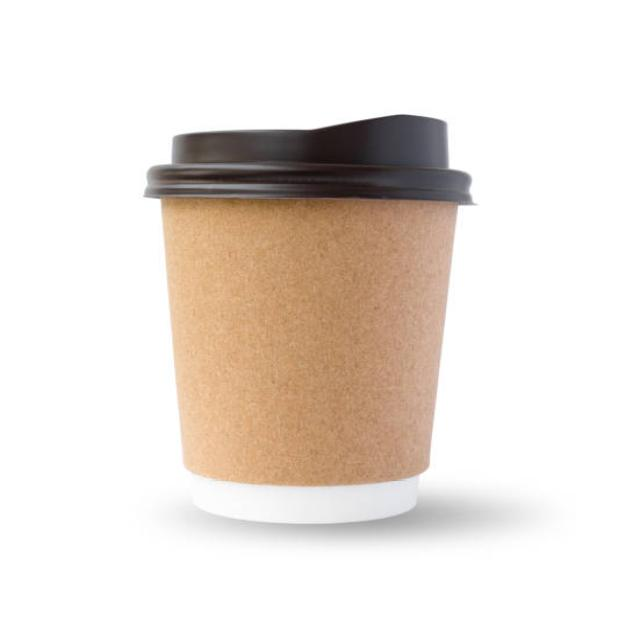cup: (141, 112, 481, 528)
